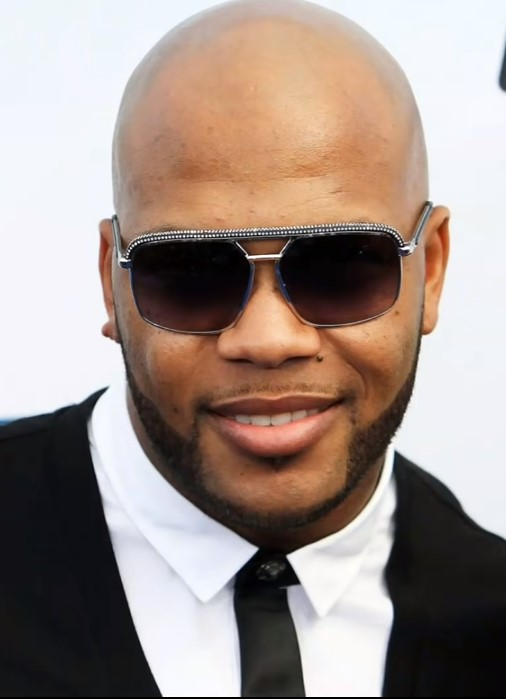face_no_mask: (107, 20, 435, 532)
